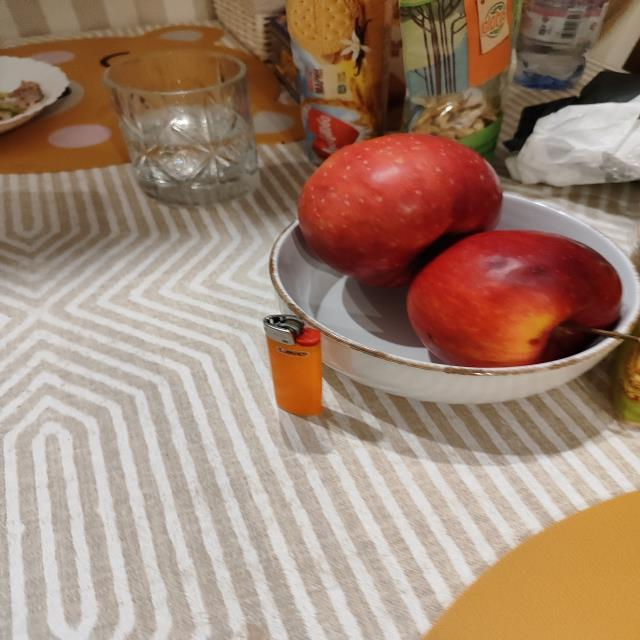lighter: (264, 314, 322, 415)
